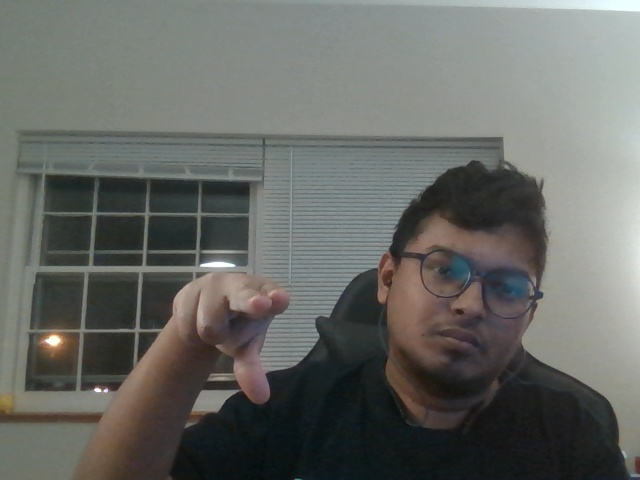no: (155, 264, 299, 413)
